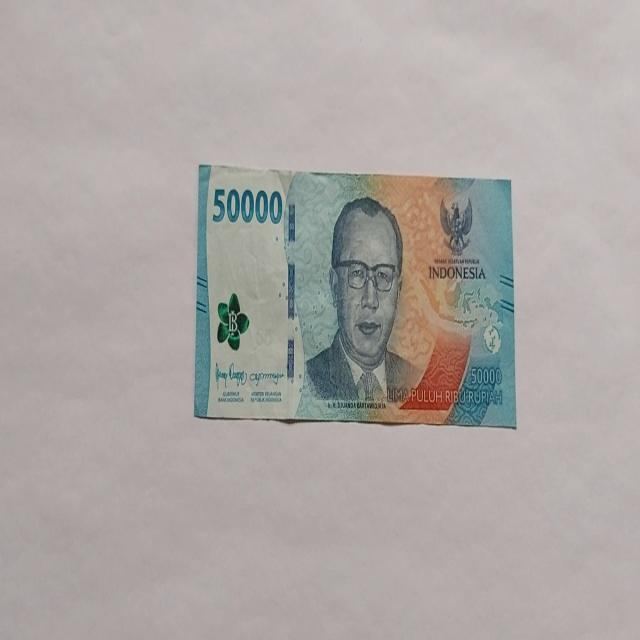lima puluh ribu rupiah: (194, 162, 516, 428), (294, 194, 426, 420)
